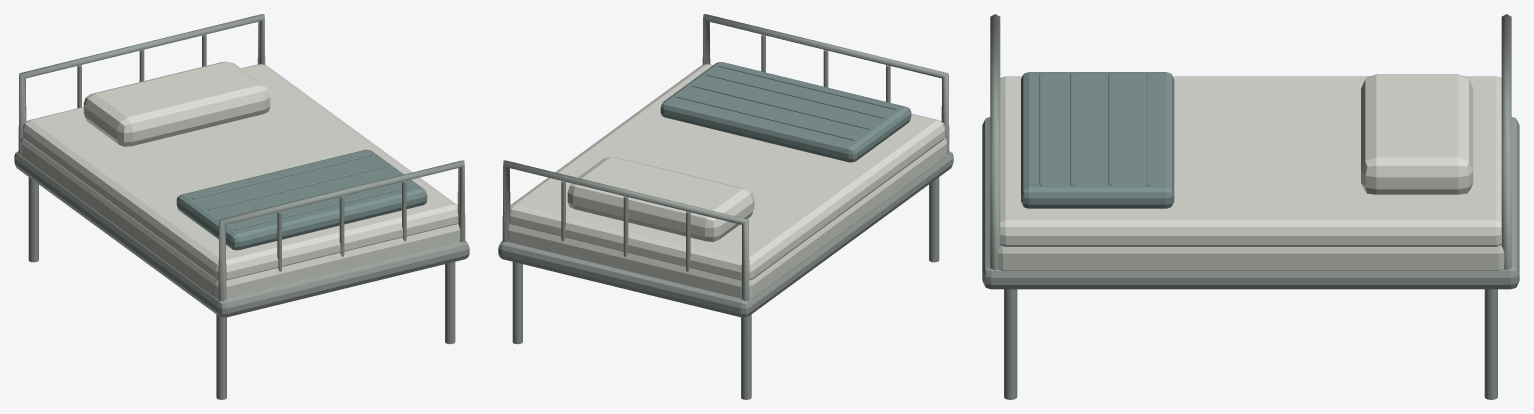
Rendered from clinic_bed.glb.
3 views of the same model, side by side, from view 1: azimuth 30°, elevation 25°; view 2: azimuth 150°, elevation 25°; view 3: azimuth 270°, elevation 25° (orthographic). The views are drawn at different scales.
Parts seen in each view (by area): view 1: KitLinen, KitSteel, KitFabric, KitIvory; view 2: KitLinen, KitSteel, KitFabric, KitIvory; view 3: KitLinen, KitSteel, KitFabric, KitIvory.
Boxes of the visible parts, left/top/right/bottom form: KitLinen: left=22, top=61, right=458, bottom=280; KitSteel: left=14, top=14, right=469, bottom=399; KitFabric: left=176, top=149, right=427, bottom=250; KitIvory: left=20, top=137, right=460, bottom=299; KitLinen: left=509, top=64, right=945, bottom=280; KitSteel: left=498, top=14, right=953, bottom=399; KitFabric: left=660, top=62, right=911, bottom=162; KitIvory: left=508, top=137, right=947, bottom=299; KitLinen: left=1000, top=74, right=1501, bottom=246; KitSteel: left=982, top=14, right=1519, bottom=399; KitFabric: left=1021, top=72, right=1174, bottom=208; KitIvory: left=997, top=245, right=1504, bottom=270.
Size of the model in its own units: 1.45 by 1.02 by 2.1.
